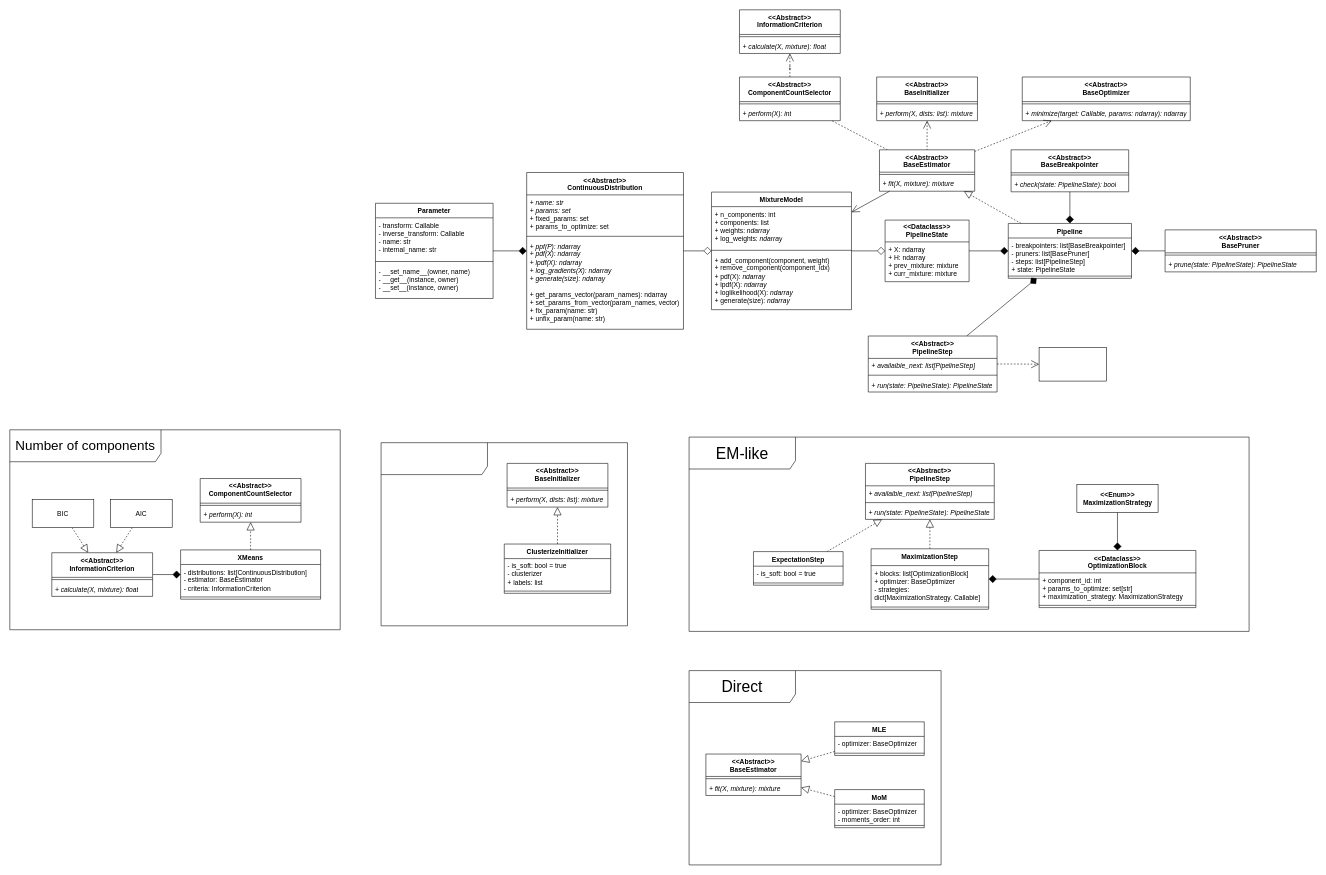
Some shapes in this 1326 by 875 pixel diagram are drawn without their labels. The centre of each missing label's shape, as x and y in pixels:
"Initialization" goes at pixel 504 534.
"StepStrategies" goes at pixel 1072 364.
